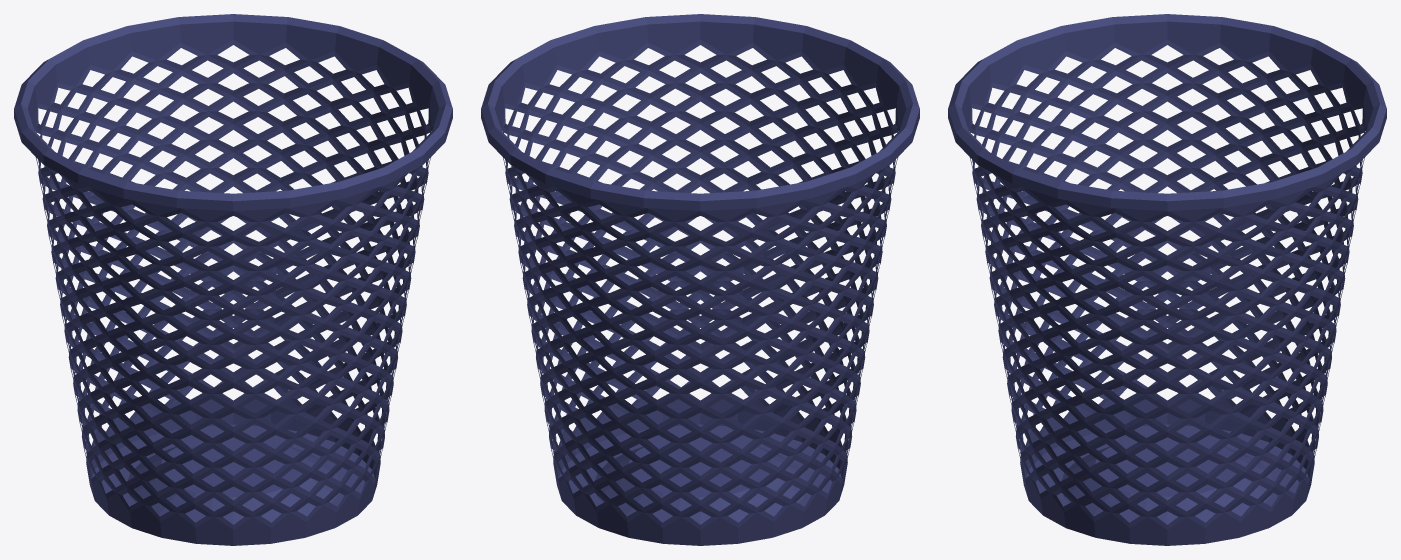
The model's file is metal_rubbish_bin.glb.
The picture shows the model from 3 angles, left to right: view 1: azimuth 30°, elevation 25°; view 2: azimuth 150°, elevation 25°; view 3: azimuth 270°, elevation 25°; orthographic projection.
Parts seen in each view (by area): view 1: Cylinder_0; view 2: Cylinder_0; view 3: Cylinder_0.
Boxes of the visible parts, bbox=[...] form: Cylinder_0: bbox=[14, 14, 452, 545]; Cylinder_0: bbox=[481, 14, 919, 545]; Cylinder_0: bbox=[948, 14, 1386, 545].
Size of the model in its own units: 1.49 by 1.43 by 1.49.
